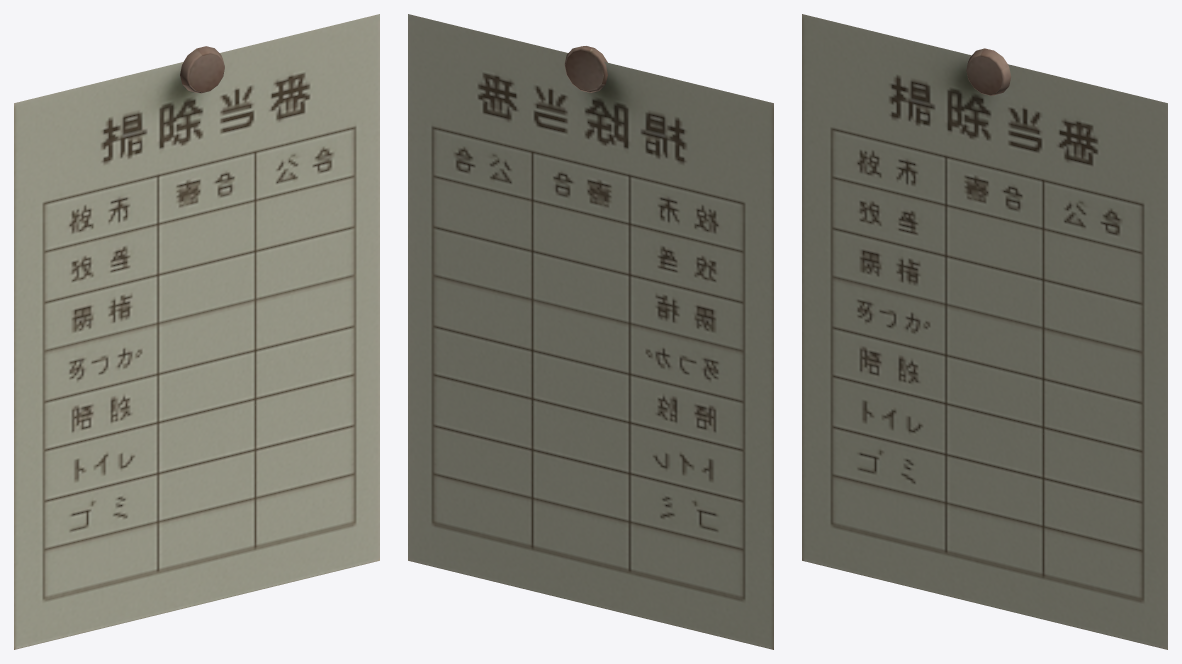
The model's file is SM_notice_011.fbx.
3 views of the same model, side by side, from view 1: azimuth 30°, elevation 25°; view 2: azimuth 150°, elevation 25°; view 3: azimuth 330°, elevation 25° (orthographic).
Visible parts, largest first — view 1: notices08; view 2: notices08; view 3: notices08.
Part boxes in pixels (x1,y1,x2,y2): notices08: (14,14,379,649); notices08: (408,14,773,649); notices08: (802,14,1167,649).
Bounding box in the file's own units: 11.61 × 16.9 × 0.3544.
1 material, 1 textured.
